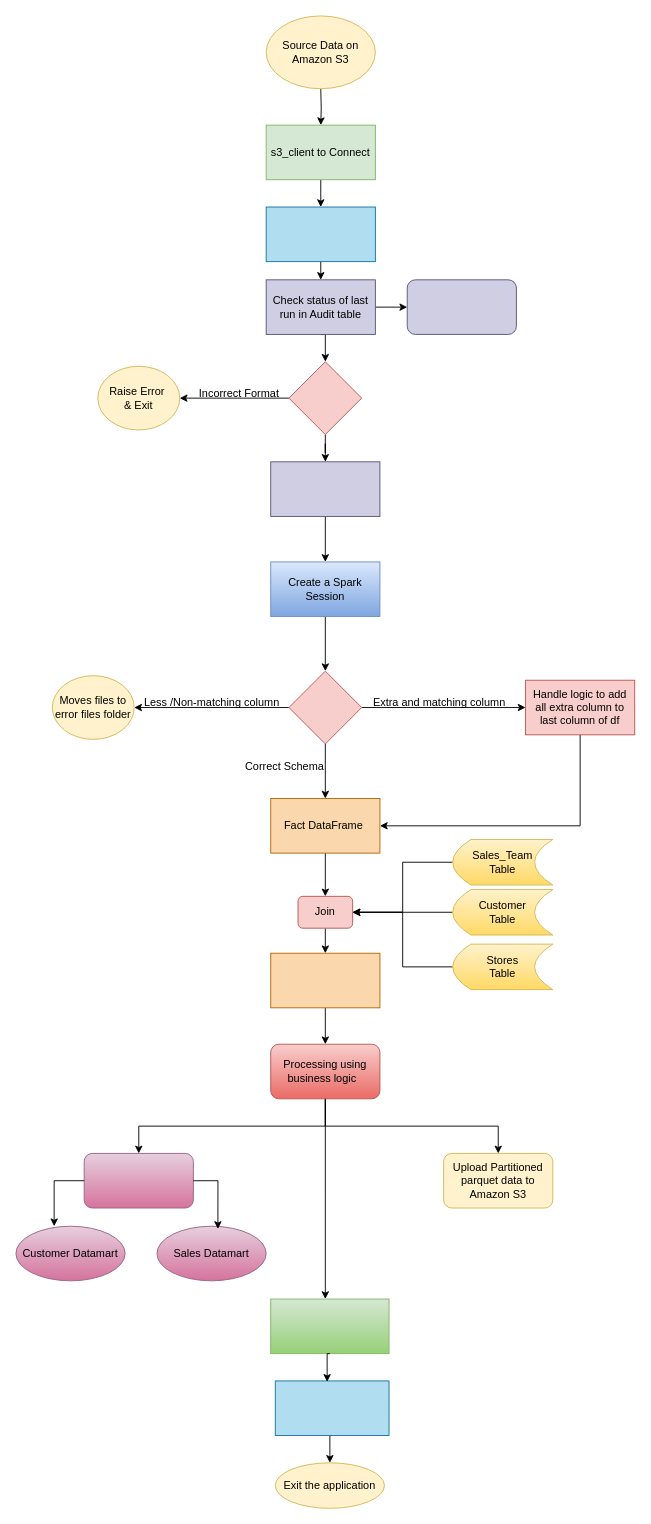
This 651x1524 diagram has some shape labels left out. Here are the shapes that lost their labels. From the top down, the box of each, then its label:
(265, 206, 375, 262): Pull Data S3 -> On-premise (Local)
(406, 279, 516, 334): If status='A', send email 'Last run unsuccessful'
(288, 361, 362, 435): Filter Files
(270, 461, 380, 516): Make an audit entry for current run with Status='A'
(288, 670, 362, 744): Schema Validation
(270, 952, 380, 1008): Enriched DataFrame
(83, 1153, 193, 1208): Data Mart
(270, 1298, 389, 1354): Moved the loaded files to archive folder and delete files on local
(274, 1380, 389, 1436): Update audit entry with status='I' and updated_time
